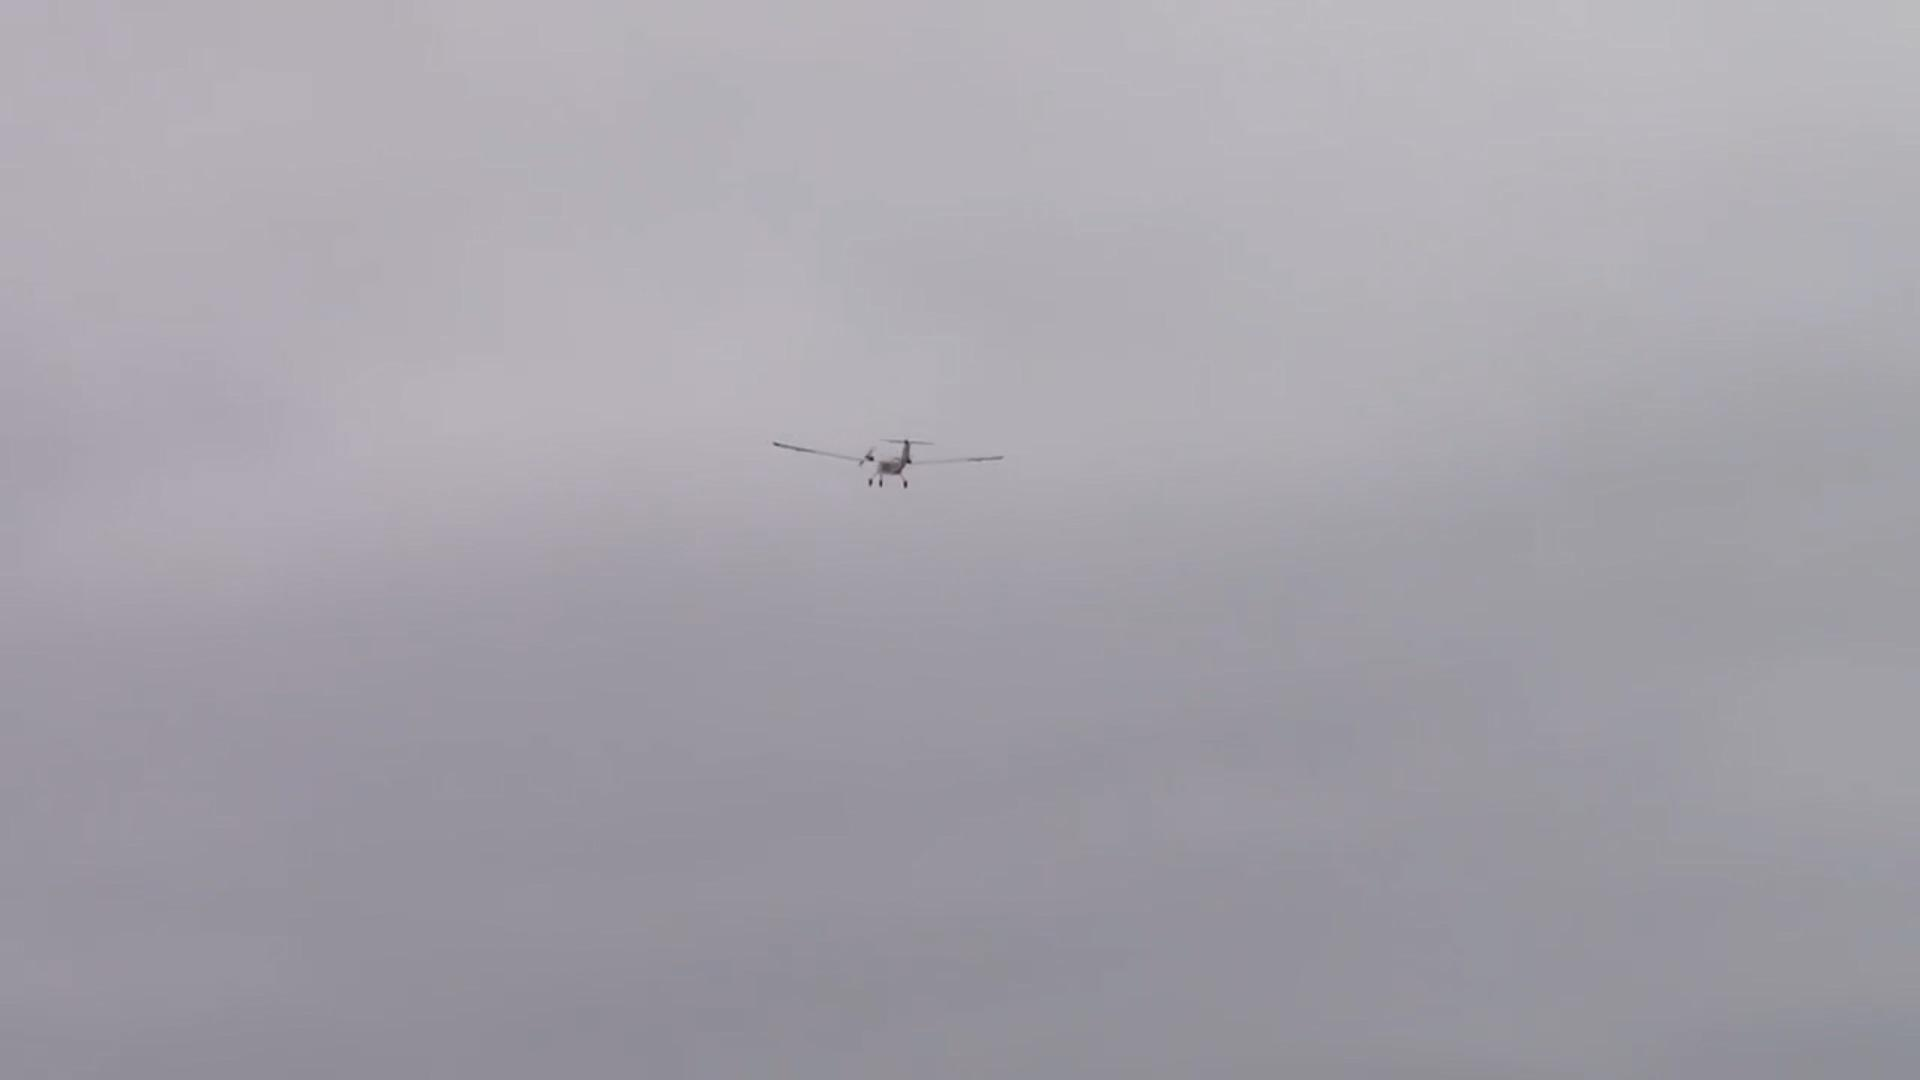Airplane: (769, 422, 1007, 501)
